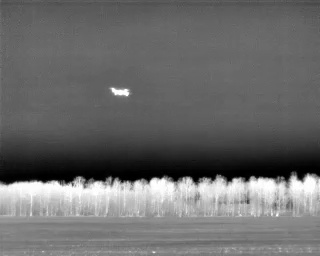DRONE: (107, 82, 134, 101)
